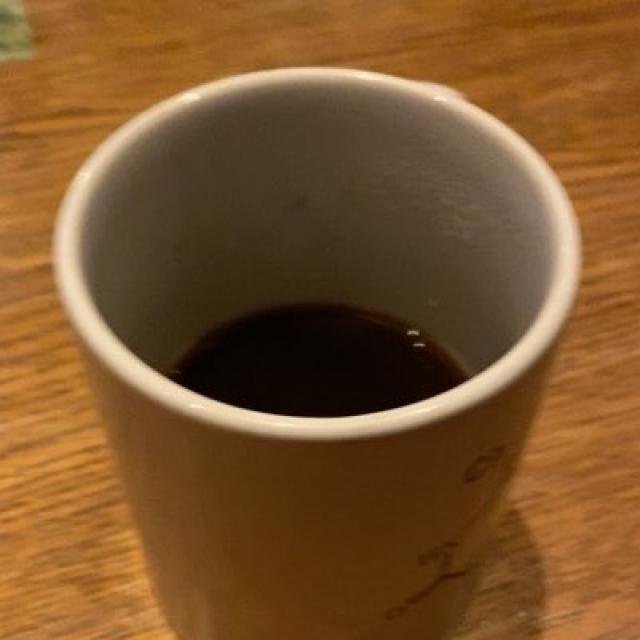coffee: (154, 290, 484, 424)
